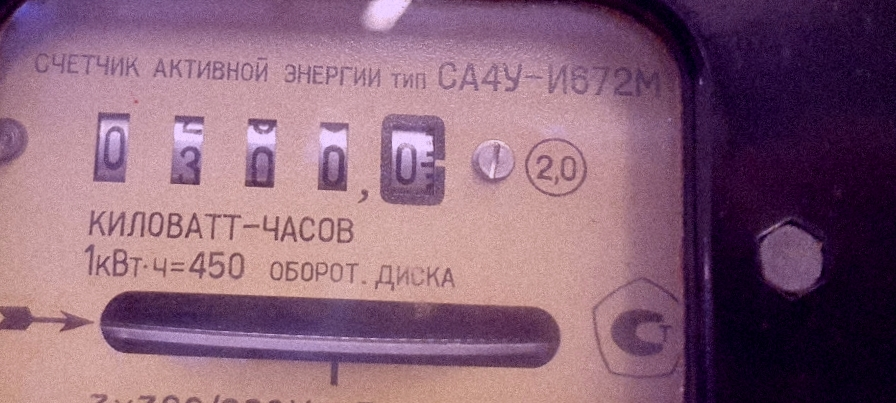0: (390, 138, 420, 188), (316, 142, 347, 189), (99, 120, 127, 172), (246, 140, 274, 189)
3: (173, 141, 203, 185)
screen: (71, 93, 456, 214)
